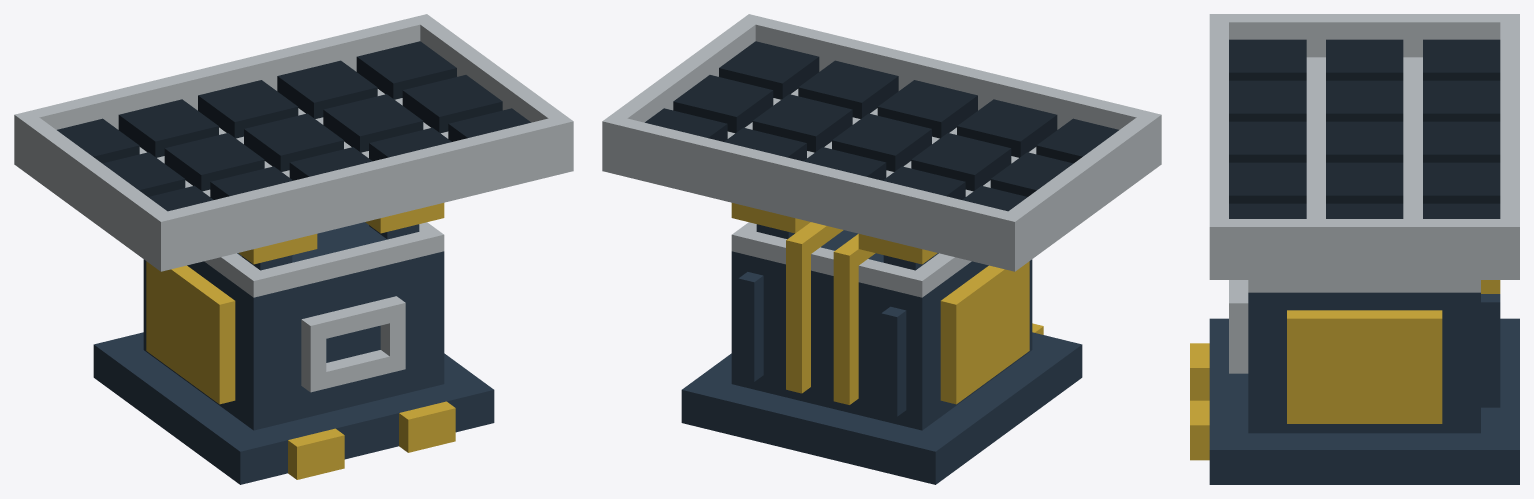
Rendered from Upper Solar Panel and Power System (Ingenuity).glb.
3 views of the same model, side by side, from view 1: azimuth 30°, elevation 25°; view 2: azimuth 150°, elevation 25°; view 3: azimuth 270°, elevation 25° (orthographic). The views are drawn at different scales.
Parts seen in each view (by area): view 1: Marcos_Aluminio, Nucleo_Avionica, Panel_Solar_Celdas, Aislamiento_Kapton; view 2: Marcos_Aluminio, Nucleo_Avionica, Panel_Solar_Celdas, Aislamiento_Kapton; view 3: Marcos_Aluminio, Panel_Solar_Celdas, Nucleo_Avionica, Aislamiento_Kapton.
Part boxes in pixels (x1,y1,x2,y2): Marcos_Aluminio: (14, 14, 573, 392); Nucleo_Avionica: (93, 222, 494, 484); Panel_Solar_Celdas: (57, 41, 530, 211); Aislamiento_Kapton: (146, 203, 455, 479); Marcos_Aluminio: (602, 14, 1161, 297); Nucleo_Avionica: (681, 224, 1082, 484); Panel_Solar_Celdas: (645, 41, 1118, 211); Aislamiento_Kapton: (731, 203, 1043, 404); Marcos_Aluminio: (1209, 14, 1519, 373); Panel_Solar_Celdas: (1229, 39, 1500, 218); Nucleo_Avionica: (1209, 292, 1519, 484); Aislamiento_Kapton: (1190, 280, 1500, 460).
Bounding box in the file's own units: 2.6 × 1.7 × 1.7.
